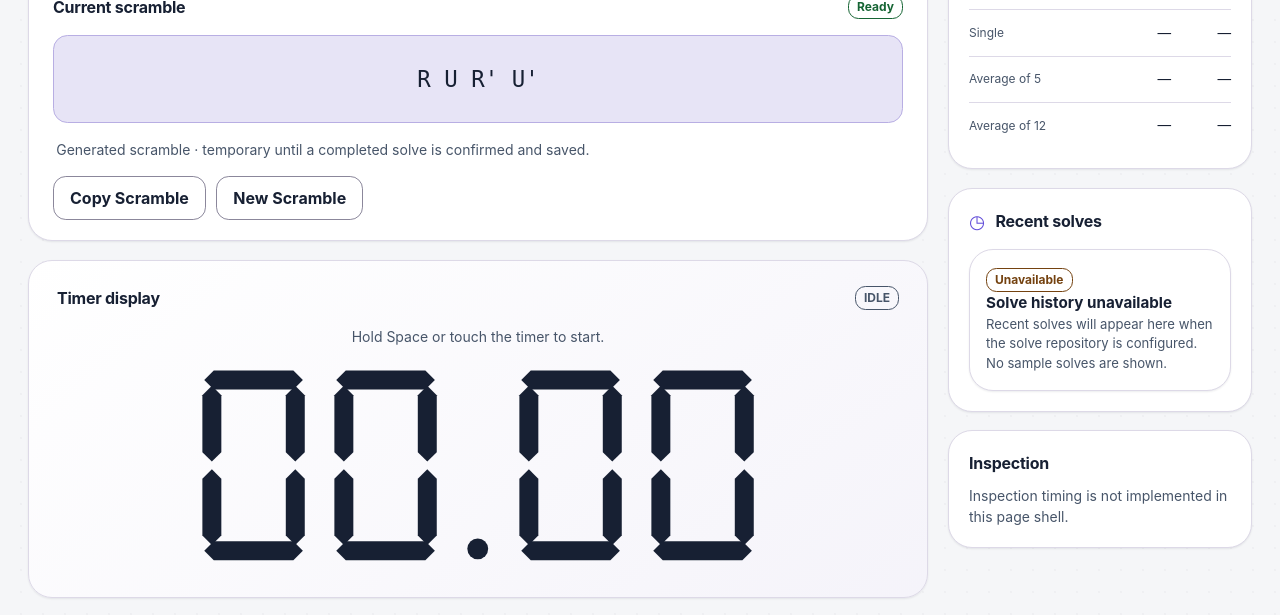
Test: timer-to-cloud-save slice › shows a safe recovery state for FORBIDDEN errors
Press the mouse on the button named "Timer control": (478, 466) x1=191 y1=363 x2=765 y2=568
Wait 1784 ms
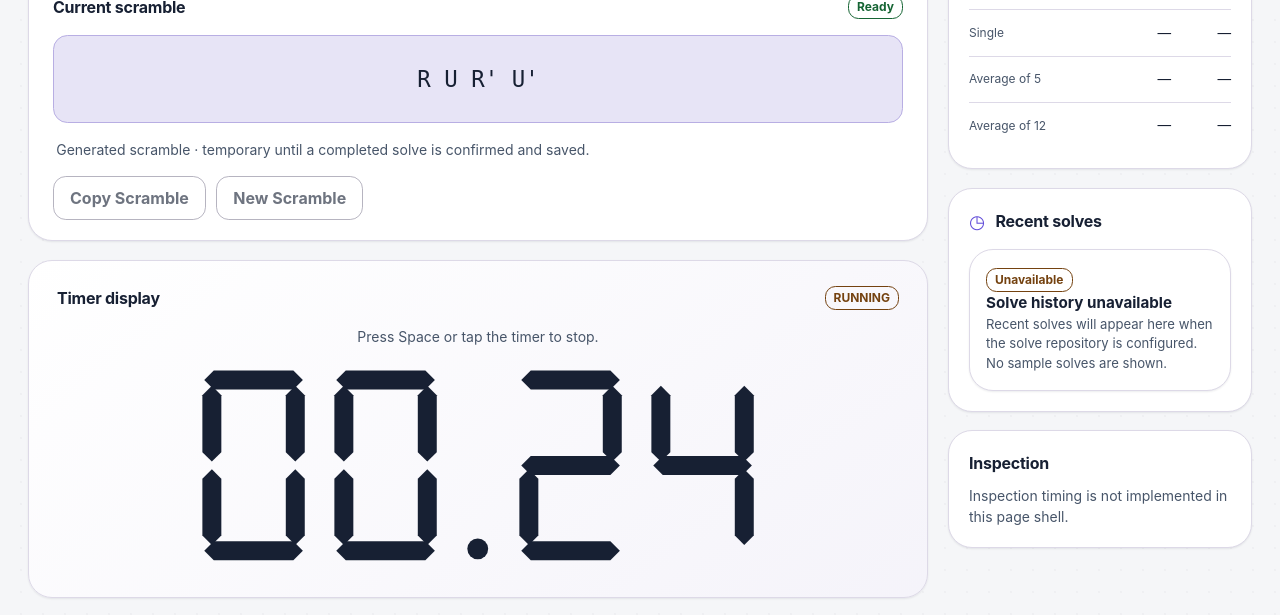
Press the mouse on the button named "Timer control": (478, 466) x1=191 y1=363 x2=765 y2=568
(page scrolled)
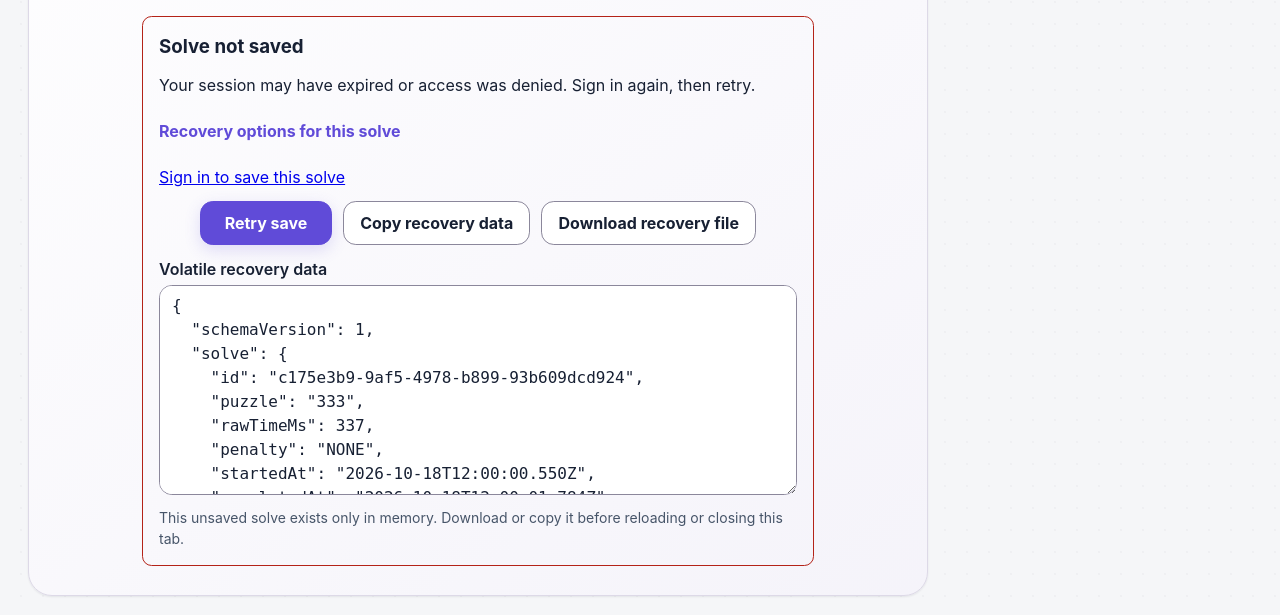
Result: the heading "Solve not saved" is shown at x1=159 y1=35 x2=304 y2=58
Result: the text "Your session may have expired or access was denied. Sign in again, then retry." is shown at x1=159 y1=73 x2=797 y2=97
Result: the button "Download recovery file" is enabled at x1=542 y1=201 x2=756 y2=245
